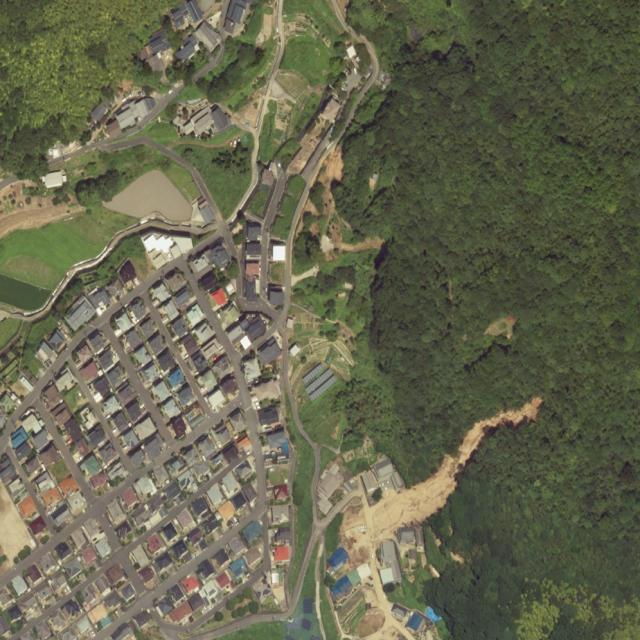landslide: (370, 398, 543, 543), (319, 146, 371, 252)
